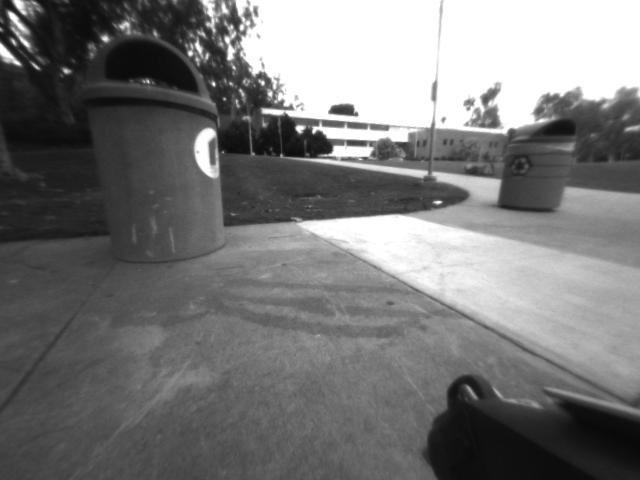trashcan: (65, 22, 238, 267)
